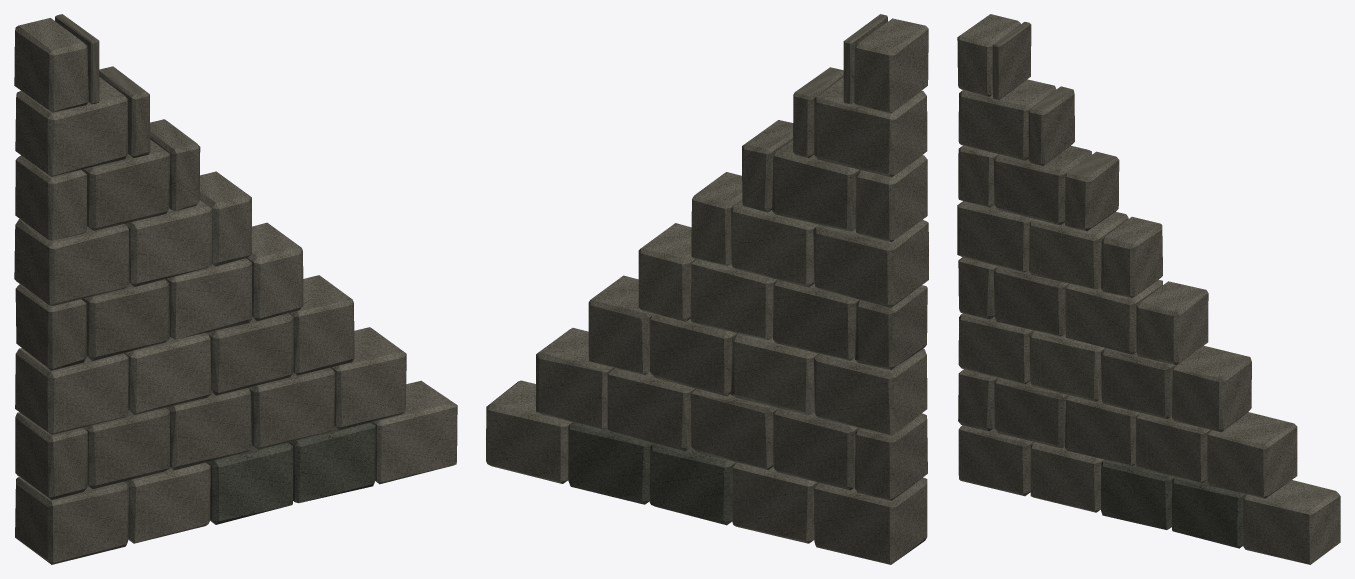
The model's file is env_ruin_walls_04_stepped_left.glb.
The picture shows the model from 3 angles, left to right: view 1: azimuth 30°, elevation 25°; view 2: azimuth 150°, elevation 25°; view 3: azimuth 330°, elevation 25°; orthographic projection. The views are drawn at different scales.
Size of the model in its own units: 1.99 by 2.39 by 0.3241.
Materials: 1 (1 with a texture image).
